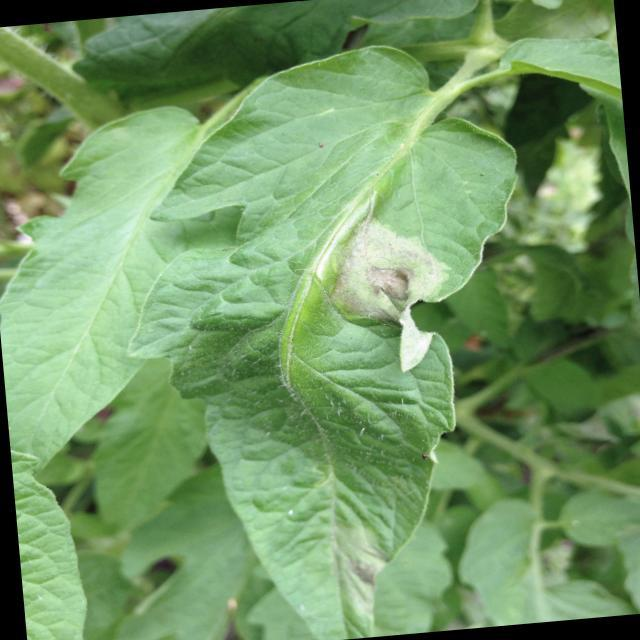Tomato late blight leaf: (114, 32, 569, 640)
